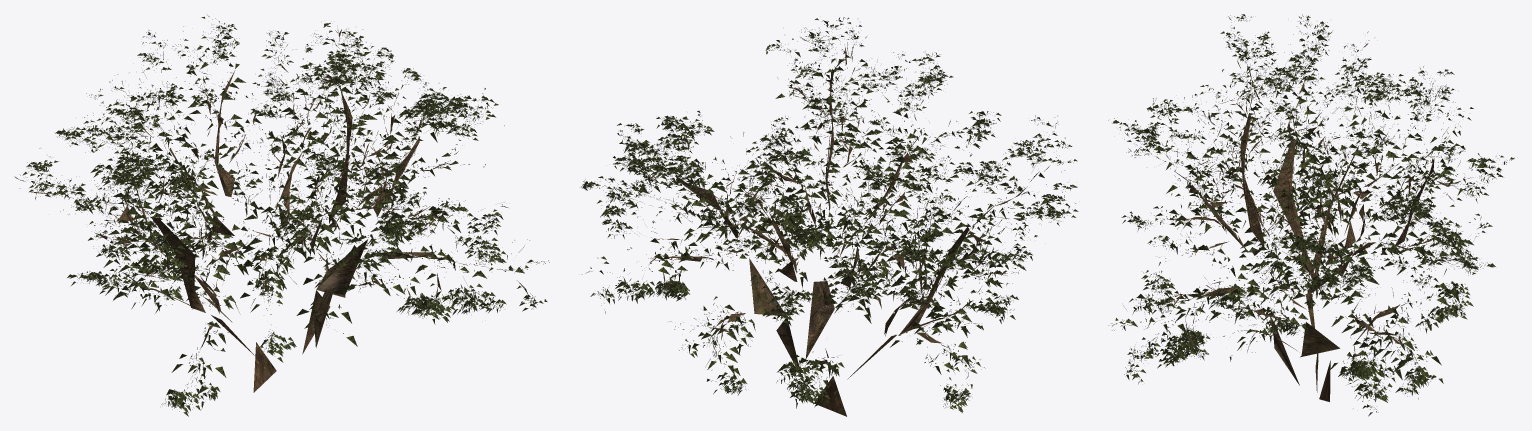
The model's file is V_jacaranda_tree.glb.
The picture shows the model from 3 angles, left to right: view 1: azimuth 30°, elevation 25°; view 2: azimuth 150°, elevation 25°; view 3: azimuth 270°, elevation 25°; orthographic projection. The views are drawn at different scales.
Visible parts, largest first — view 1: V_jacaranda_tree; view 2: V_jacaranda_tree; view 3: V_jacaranda_tree.
Part boxes in pixels (x1=…): V_jacaranda_tree: x1=14, y1=15, x2=549, y2=416; V_jacaranda_tree: x1=581, y1=17, x2=1078, y2=416; V_jacaranda_tree: x1=1108, y1=14, x2=1514, y2=416.
Bounding box in the file's own units: 12.39 × 9.26 × 9.57.
Materials: 3 (3 with a texture image).
